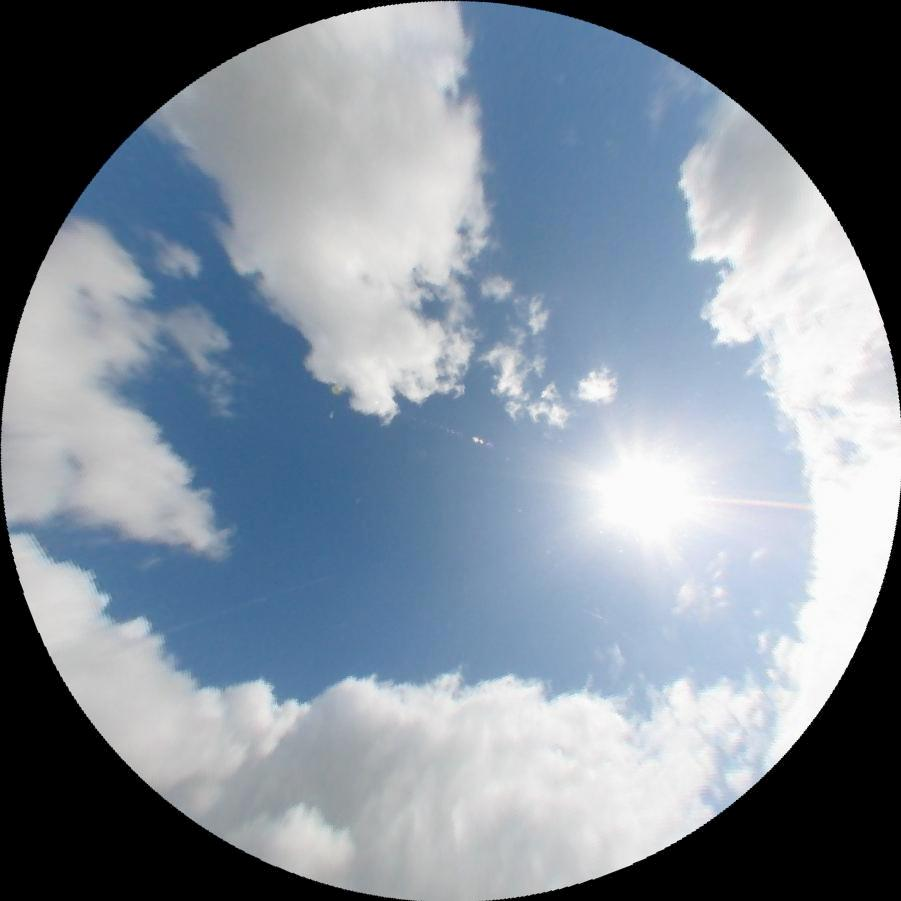contrail young: (579, 605, 603, 620)
parasite: (696, 494, 813, 511)
sun: (585, 433, 709, 556)
